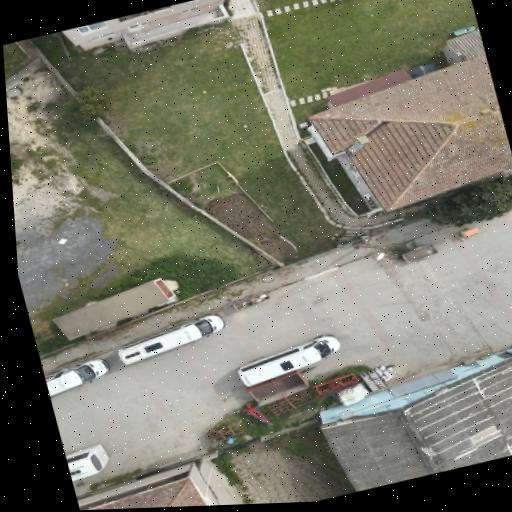bus: (65, 445, 108, 481)
car: (237, 334, 339, 385), (118, 314, 223, 363), (45, 358, 108, 395)
